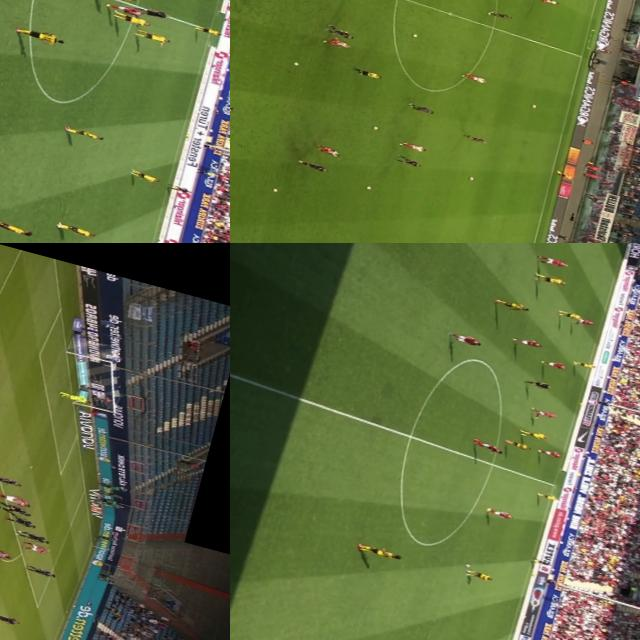ball: (370, 125, 380, 132), (527, 103, 538, 109), (461, 562, 472, 568), (290, 60, 300, 66), (466, 176, 476, 182), (363, 184, 372, 190), (270, 187, 278, 192), (412, 33, 418, 38)
player: (13, 22, 66, 46), (357, 541, 400, 562), (55, 219, 97, 238), (530, 270, 570, 288), (0, 216, 33, 237), (492, 296, 530, 314), (468, 438, 504, 456), (112, 12, 150, 29), (106, 1, 144, 18), (64, 126, 103, 142), (448, 330, 482, 348), (135, 30, 170, 47), (536, 253, 571, 270), (5, 512, 37, 530), (24, 562, 56, 580), (58, 390, 92, 406), (516, 426, 550, 442), (20, 540, 53, 556), (0, 500, 31, 517), (462, 568, 497, 583), (129, 168, 160, 184), (322, 23, 353, 39), (0, 491, 28, 508), (296, 157, 327, 172), (319, 34, 350, 49), (17, 529, 48, 544), (484, 8, 516, 22), (500, 437, 532, 451), (312, 143, 341, 158), (457, 70, 488, 84), (512, 334, 543, 348), (485, 508, 516, 522), (528, 406, 558, 420), (534, 446, 564, 459), (556, 308, 583, 322), (540, 358, 566, 372), (407, 102, 434, 115), (0, 609, 19, 627), (396, 154, 420, 168), (396, 140, 424, 152), (194, 24, 221, 36), (462, 132, 487, 144), (0, 472, 20, 487), (535, 491, 561, 502), (574, 316, 597, 328), (0, 544, 14, 562), (573, 360, 597, 370), (533, 0, 560, 6)
